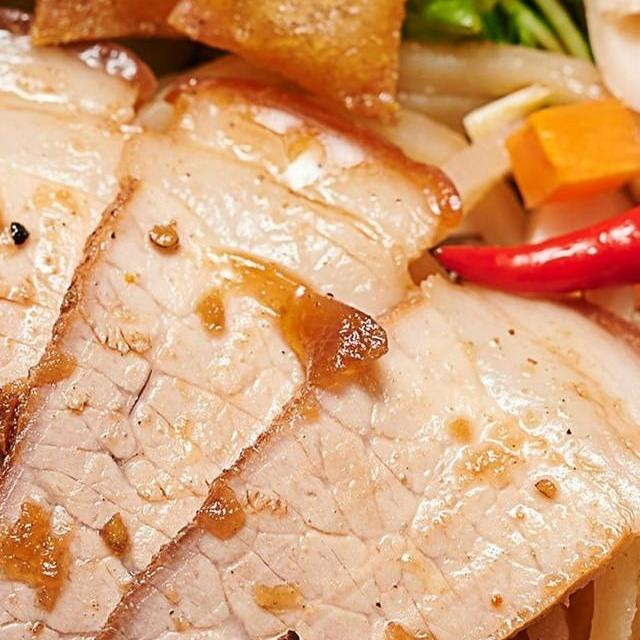banh da: (158, 0, 470, 138)
mi: (331, 25, 640, 408), (118, 429, 640, 640)
thit heo: (0, 59, 470, 640), (0, 257, 640, 640), (0, 0, 172, 640)
